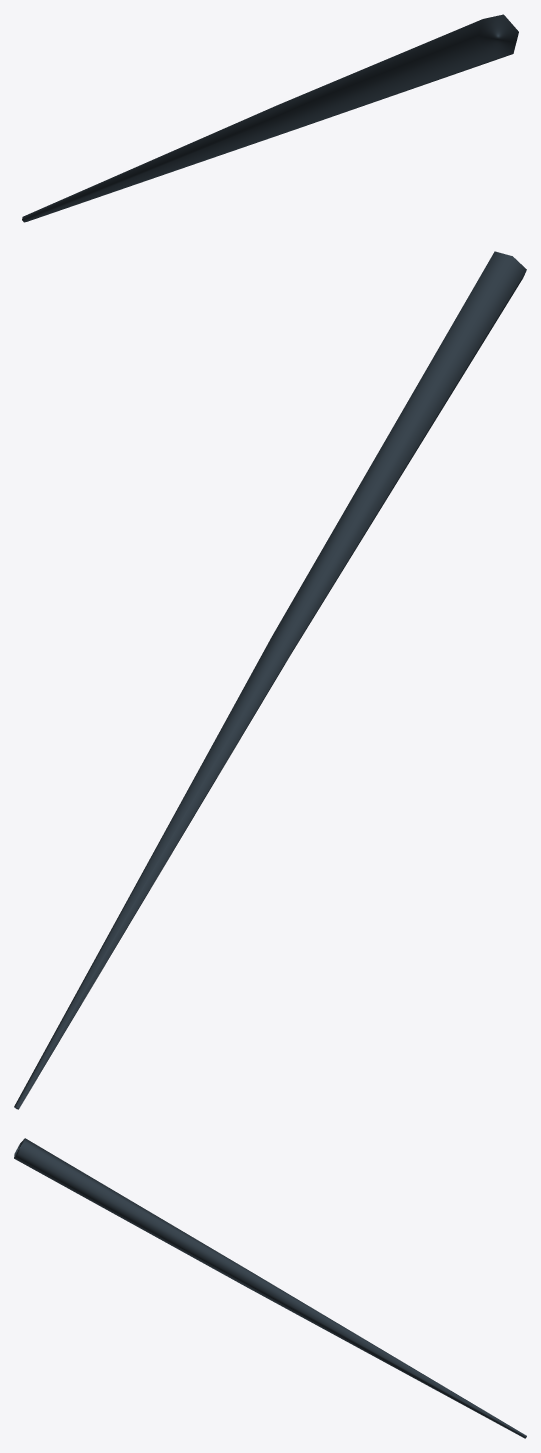
File: R_Wing_Finger_4.obj
The picture shows the model from 3 angles, top to bottom: view 1: azimuth 30°, elevation 25°; view 2: azimuth 150°, elevation 25°; view 3: azimuth 270°, elevation 25°; orthographic projection. The views are drawn at different scales.
Parts seen in each view (by area): view 1: R_Wing_Finger_4; view 2: R_Wing_Finger_4; view 3: R_Wing_Finger_4.
Part boxes in pixels (bbox=[...]): R_Wing_Finger_4: bbox=[22, 14, 518, 222]; R_Wing_Finger_4: bbox=[14, 251, 526, 1109]; R_Wing_Finger_4: bbox=[14, 1138, 526, 1438].
Size of the model in its own units: 0.3059 by 2.99 by 4.8.
